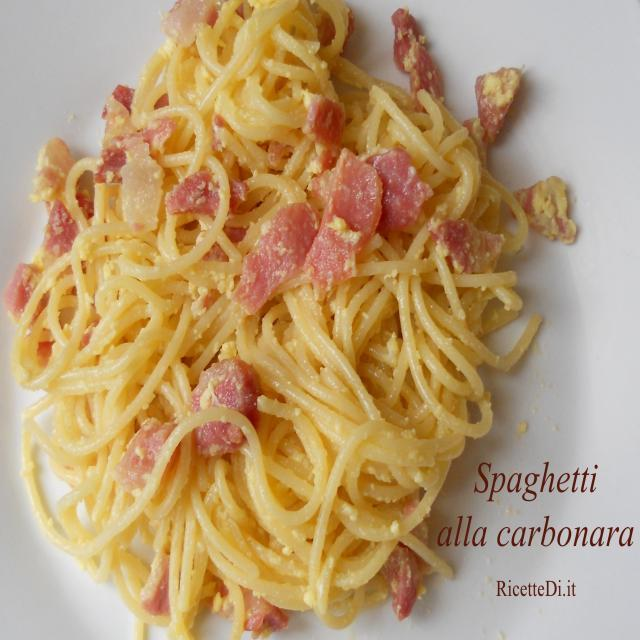Pasta with carbonara sauce: (32, 0, 566, 612)
